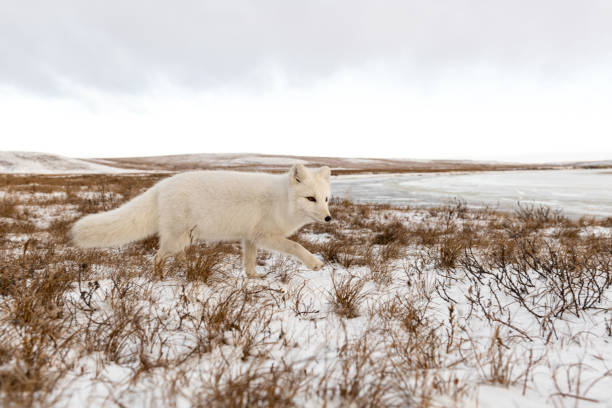arcticfox: (283, 169, 343, 230)
